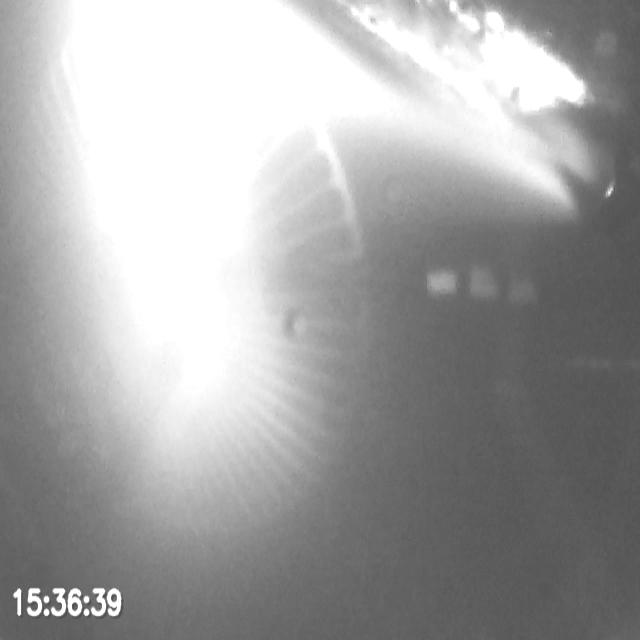white-dots: (423, 266, 539, 308)
